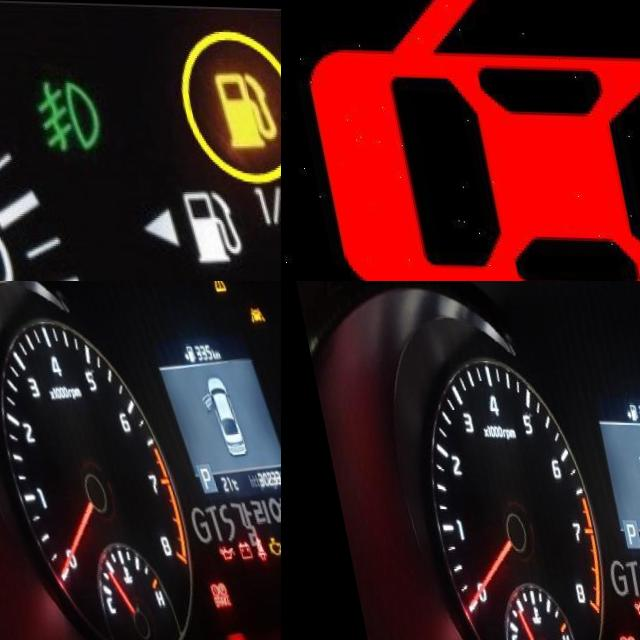Central Warning lamp: (199, 281, 218, 290)
FrontFogLight: (25, 75, 96, 151)
LaneCenteringOff: (237, 302, 256, 320)
Low fuel level: (206, 67, 273, 145)
